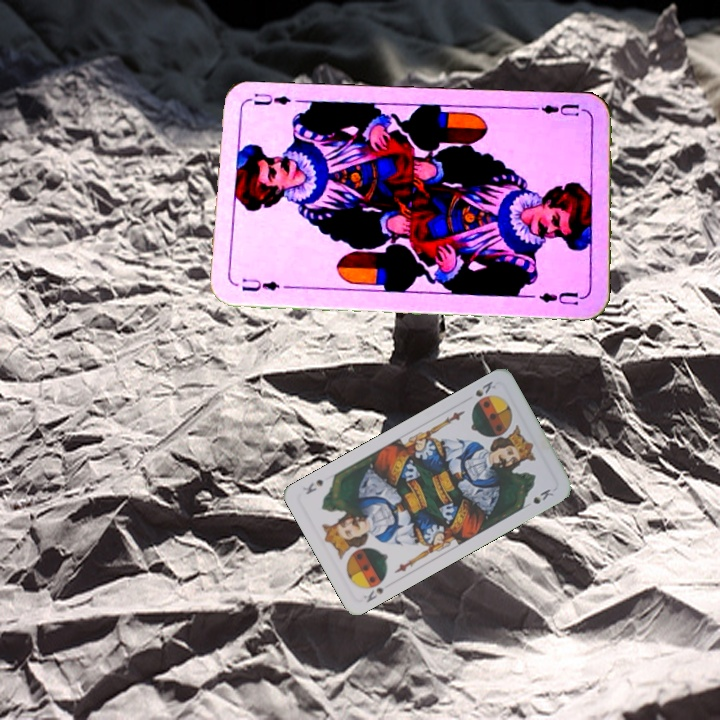EU: (531, 100, 590, 119), (235, 274, 283, 294)
SK: (359, 573, 389, 605), (471, 377, 499, 399)
